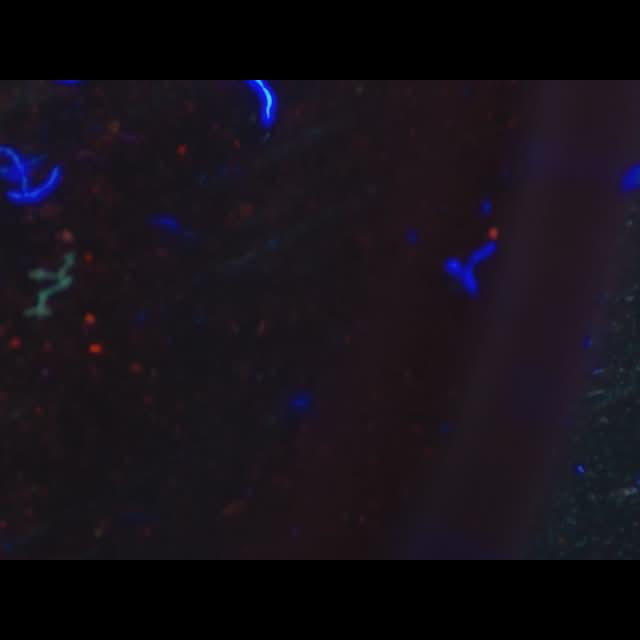Fibre: (25, 251, 75, 317)
